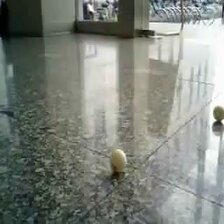w: (110, 149, 127, 172), (212, 106, 224, 122)
